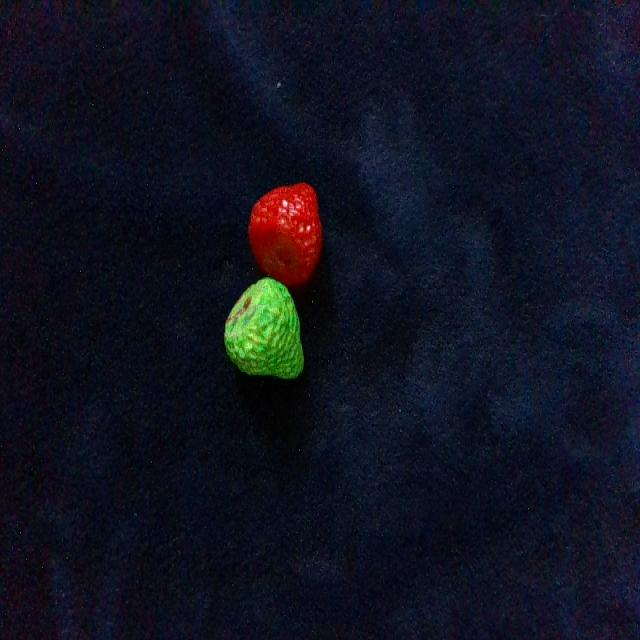chica_roja: (249, 184, 322, 285)
verde: (225, 277, 303, 377)
